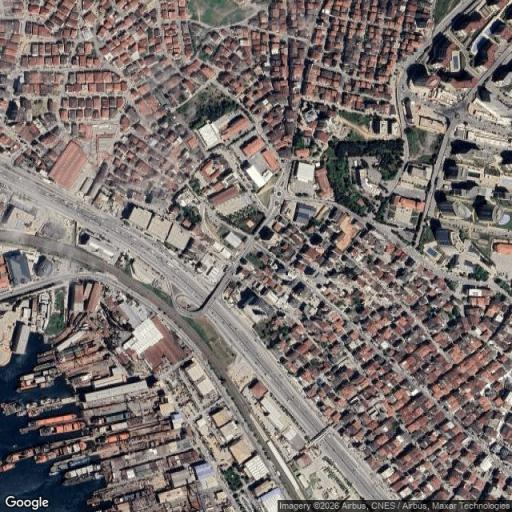ship: (35, 441, 87, 463), (20, 414, 76, 433), (28, 397, 76, 417), (17, 369, 56, 391), (50, 455, 90, 476), (64, 464, 102, 485), (40, 422, 85, 435), (64, 464, 100, 479), (64, 472, 102, 486), (35, 414, 76, 426), (7, 448, 34, 462), (0, 401, 24, 415), (70, 373, 92, 386), (37, 350, 55, 363), (33, 361, 55, 371), (17, 381, 37, 391), (0, 462, 15, 472)
